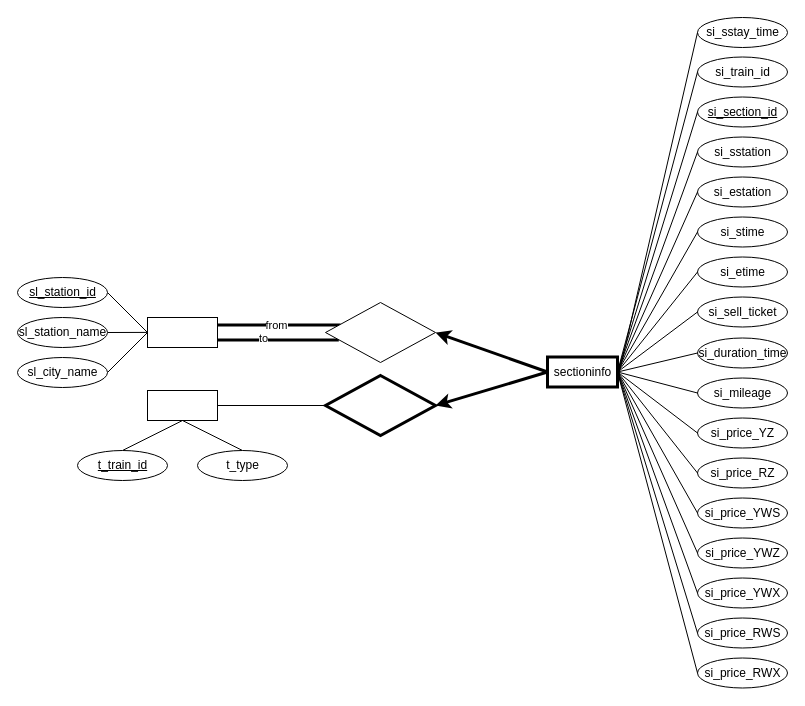
Some shapes in this 805 by 706 pixel diagram are drawn without their labels. The shapes that lost their labels are listed below. From the top down, each one's box as (x1, y1, x2, y2) in pixels, then its label:
(146, 316, 218, 348): stationlist
(324, 302, 436, 362): section pass station
(146, 390, 218, 420): train
(324, 374, 436, 436): has section
